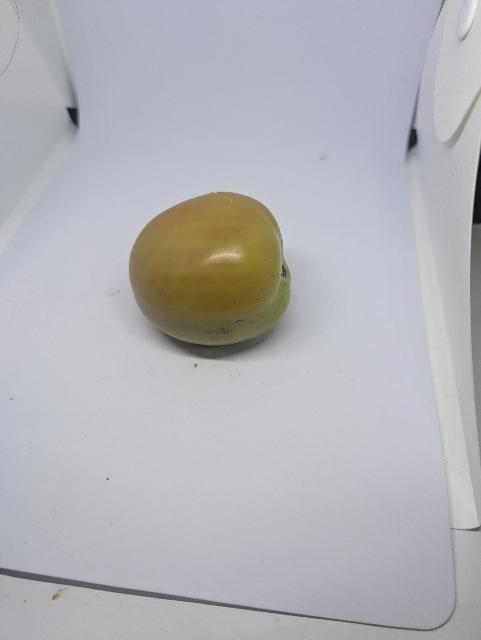breaker: (129, 192, 291, 346)
